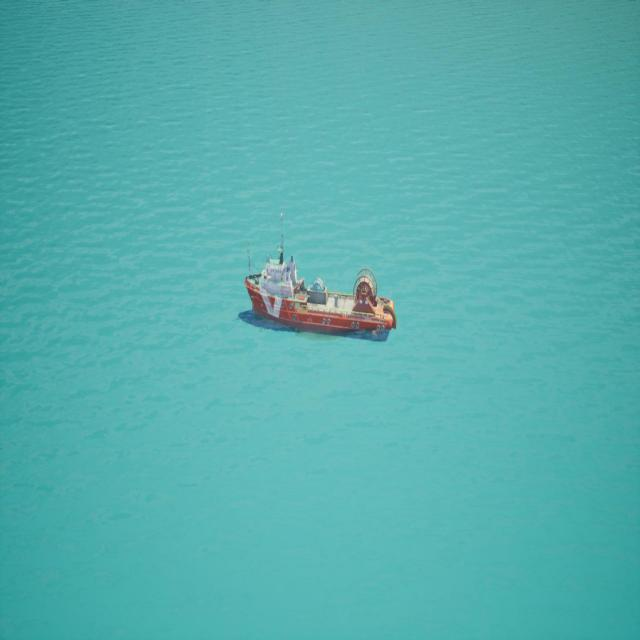tug boat: (244, 215, 401, 344)
